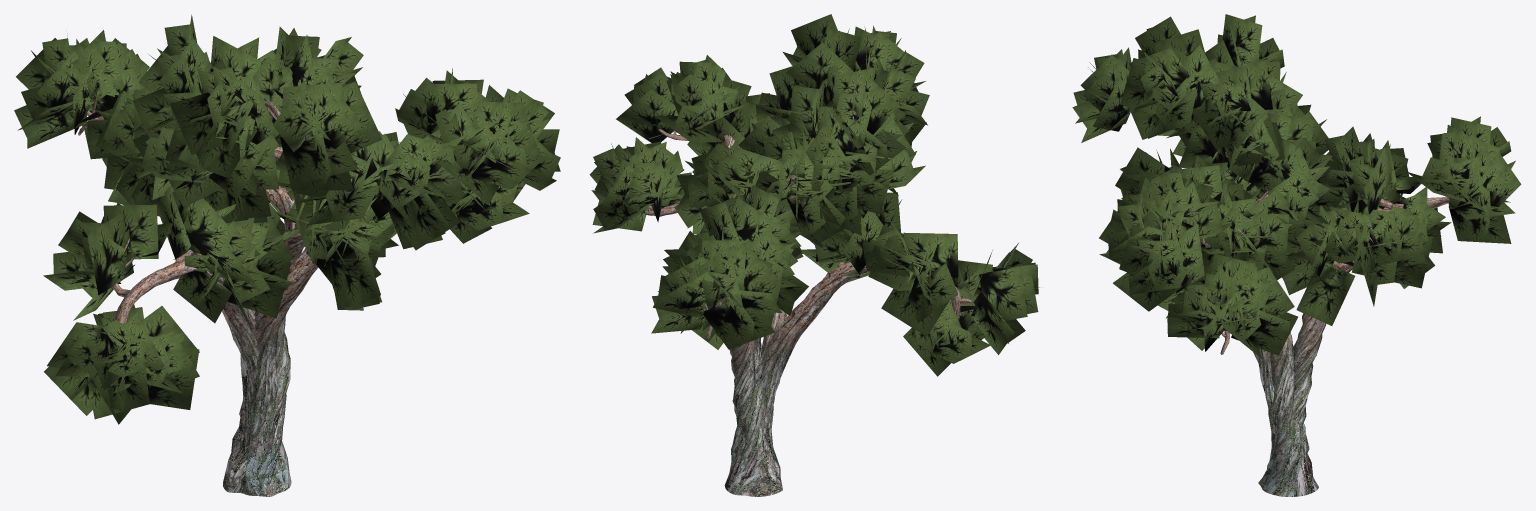
File: Tree_02_v2.fbx
3 views of the same model, side by side, from view 1: azimuth 30°, elevation 25°; view 2: azimuth 150°, elevation 25°; view 3: azimuth 270°, elevation 25° (orthographic). The views are drawn at different scales.
Visible parts, largest first — view 1: tree.003; view 2: tree.003; view 3: tree.003.
Boxes of the visible parts, x1=… form: tree.003: x1=14, y1=14, x2=560, y2=496; tree.003: x1=589, y1=14, x2=1039, y2=496; tree.003: x1=1072, y1=14, x2=1521, y2=496.
Bounding box in the file's own units: 5080 × 4909 × 4640.
